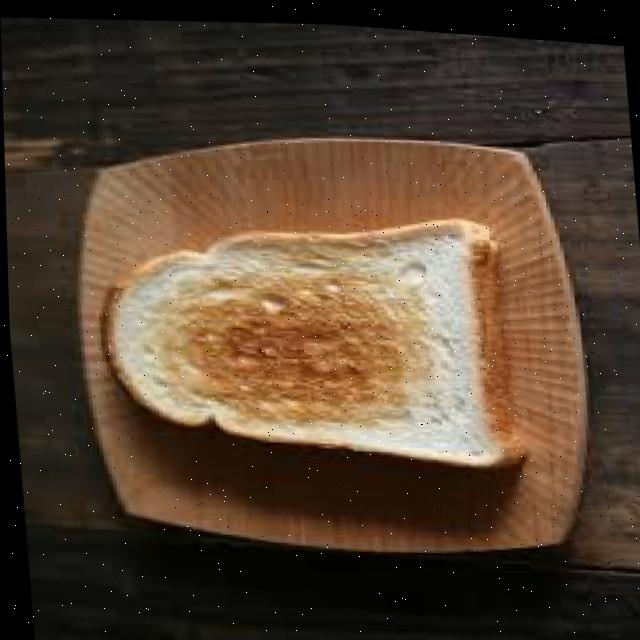Bread: (111, 216, 515, 457)
